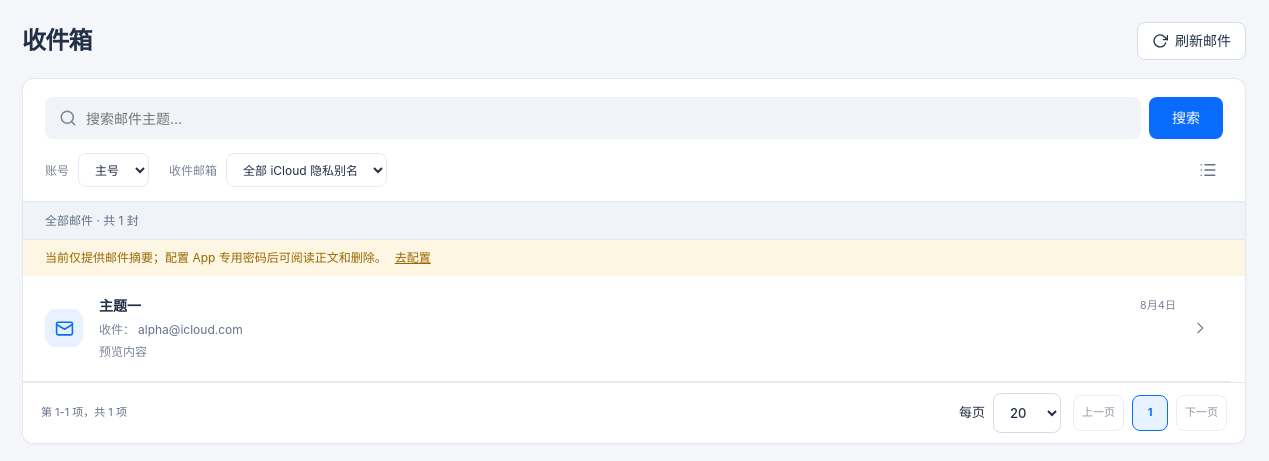
Test: InboxPage › Web API 模式只打开摘要，不请求正文或显示删除入口
Click the button "主题一" at (64, 328), box [23,276,1230,382]
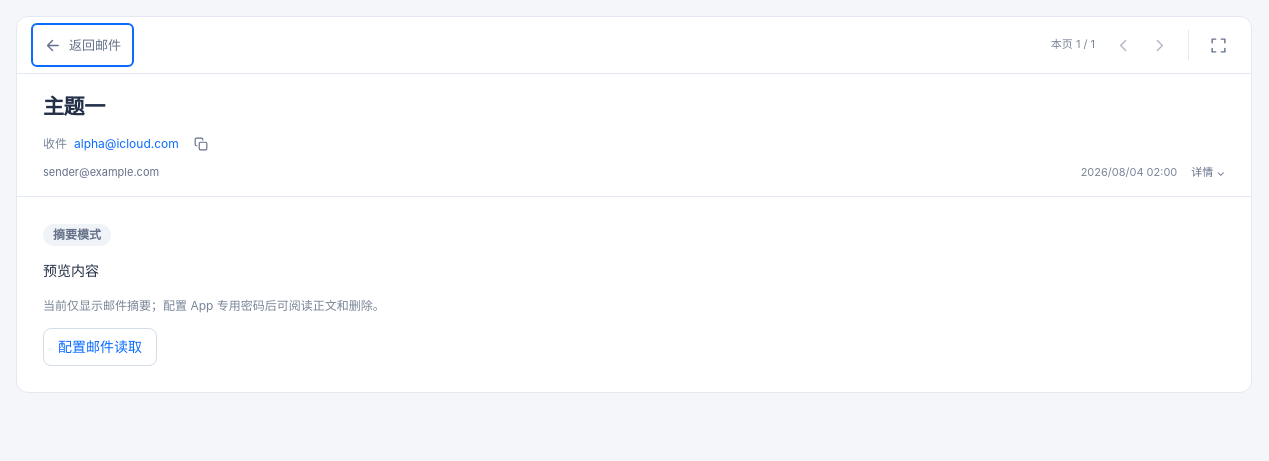
Expected: the text "预览内容" is shown, [43,262,99,279]
Expected: the text "当前仅显示邮件摘要；配置 App 专用密码后可阅读正文和删除。" is shown, [43,298,385,314]
